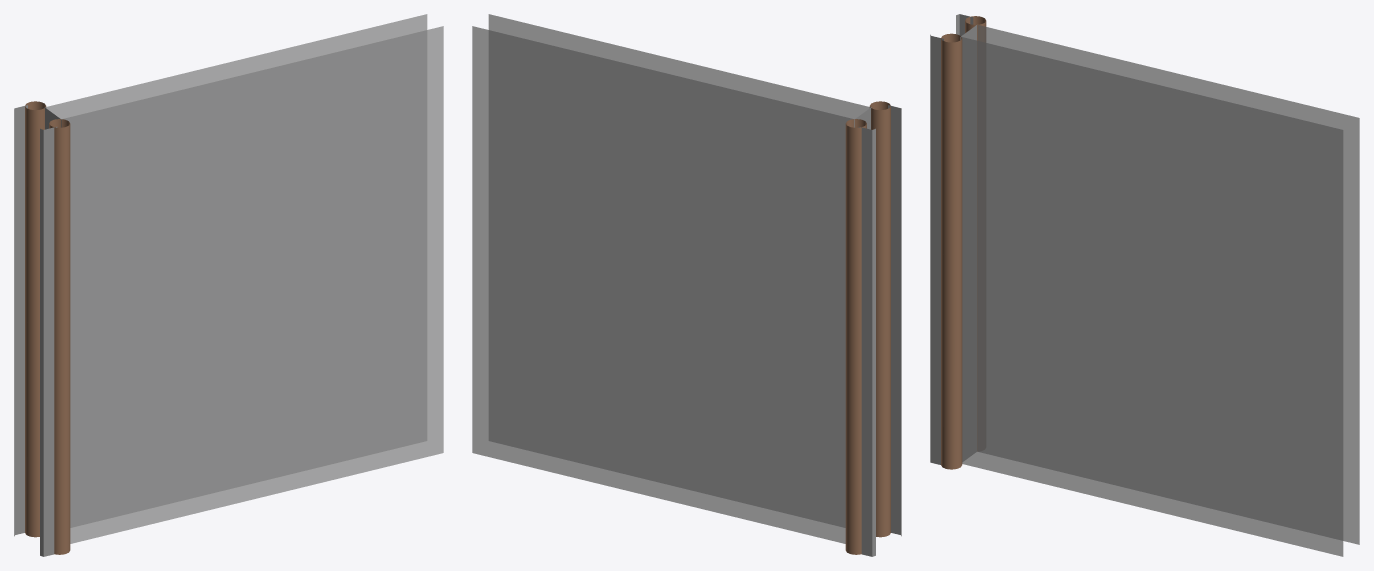
File: wall_window_edge_horizontal.fbx
3 views of the same model, side by side, from view 1: azimuth 30°, elevation 25°; view 2: azimuth 150°, elevation 25°; view 3: azimuth 330°, elevation 25° (orthographic).
Visible parts, largest first — view 1: wall_window_edge_horizontal; view 2: wall_window_edge_horizontal; view 3: wall_window_edge_horizontal.
Part boxes in pixels (x1,y1,x2,y2): wall_window_edge_horizontal: (14, 14, 443, 556); wall_window_edge_horizontal: (472, 14, 901, 556); wall_window_edge_horizontal: (930, 14, 1359, 556).
Bounding box in the file's own units: 200 × 200 × 29.45.
